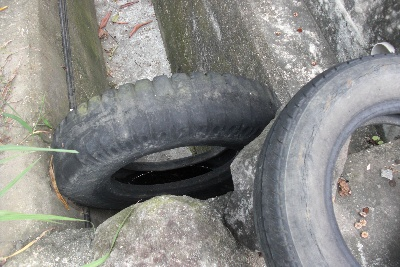tire: (51, 70, 285, 212)
